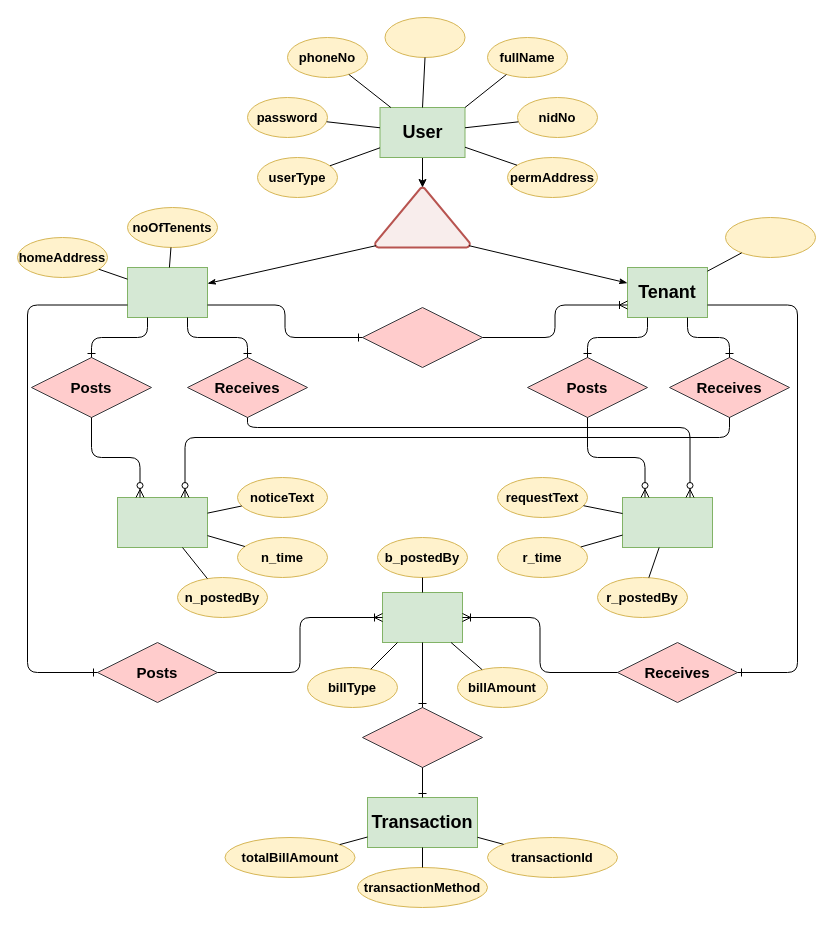
The diagram is 833 pixels wide and 925 high, and some of its shapes have lost their labels. The shapes that lost their labels are listed below. From the top down, each one's centre as x and y in pixels, then its label:
At pixel 424 37: "userId".
At pixel 422 217: "IS A".
At pixel 770 237: "hisOwnerId".
At pixel 167 292: "Owner".
At pixel 422 337: "Connects to".
At pixel 162 522: "Notice".
At pixel 667 522: "Request".
At pixel 422 617: "Bill".
At pixel 422 737: "Has".
